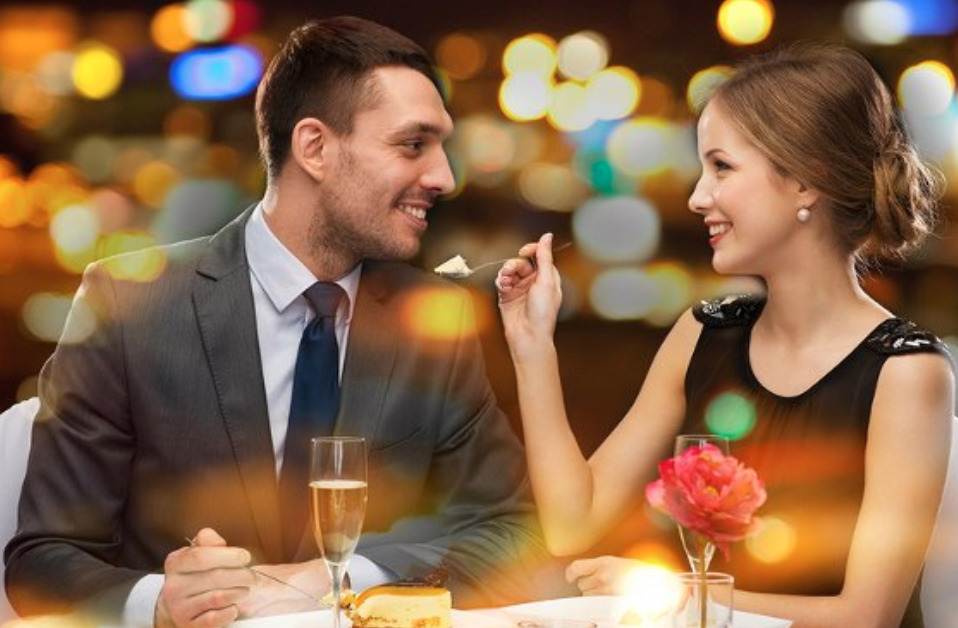Bad: (30, 14, 953, 437)
